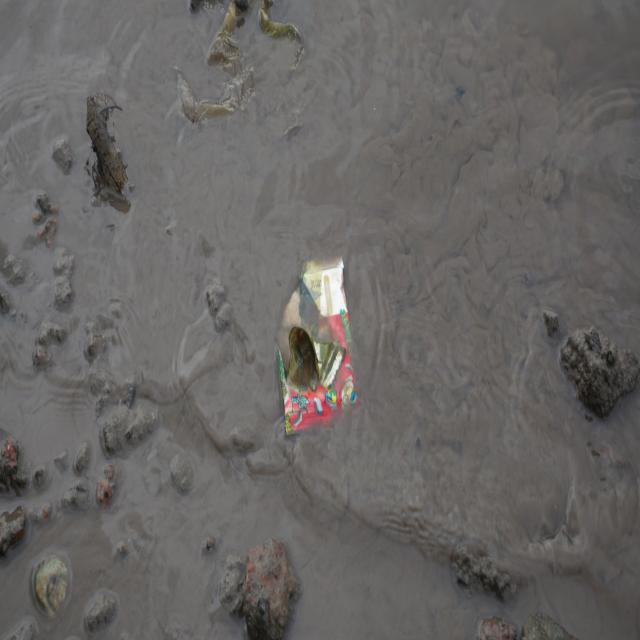Bungkus Makanan: (272, 248, 364, 440)
